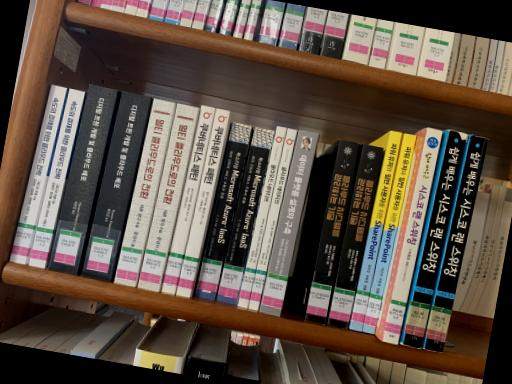book-spine: (402, 129, 469, 348), (423, 134, 489, 352), (47, 84, 117, 275), (81, 90, 150, 282), (384, 128, 443, 345), (114, 98, 176, 286), (138, 103, 199, 291), (259, 129, 319, 316), (350, 130, 403, 331), (363, 133, 416, 333), (327, 143, 384, 328), (216, 127, 275, 305), (9, 84, 67, 264), (194, 122, 252, 300), (28, 88, 85, 268), (161, 105, 215, 295), (305, 140, 360, 325), (176, 108, 229, 297), (237, 126, 287, 308), (248, 128, 298, 310)
